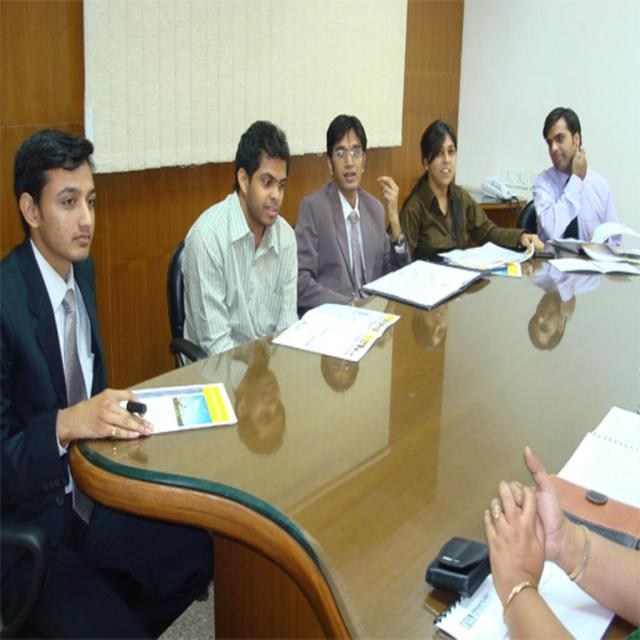Face: (38, 168, 102, 271), (247, 148, 291, 242), (543, 120, 581, 179), (334, 135, 371, 191), (432, 130, 457, 195)
